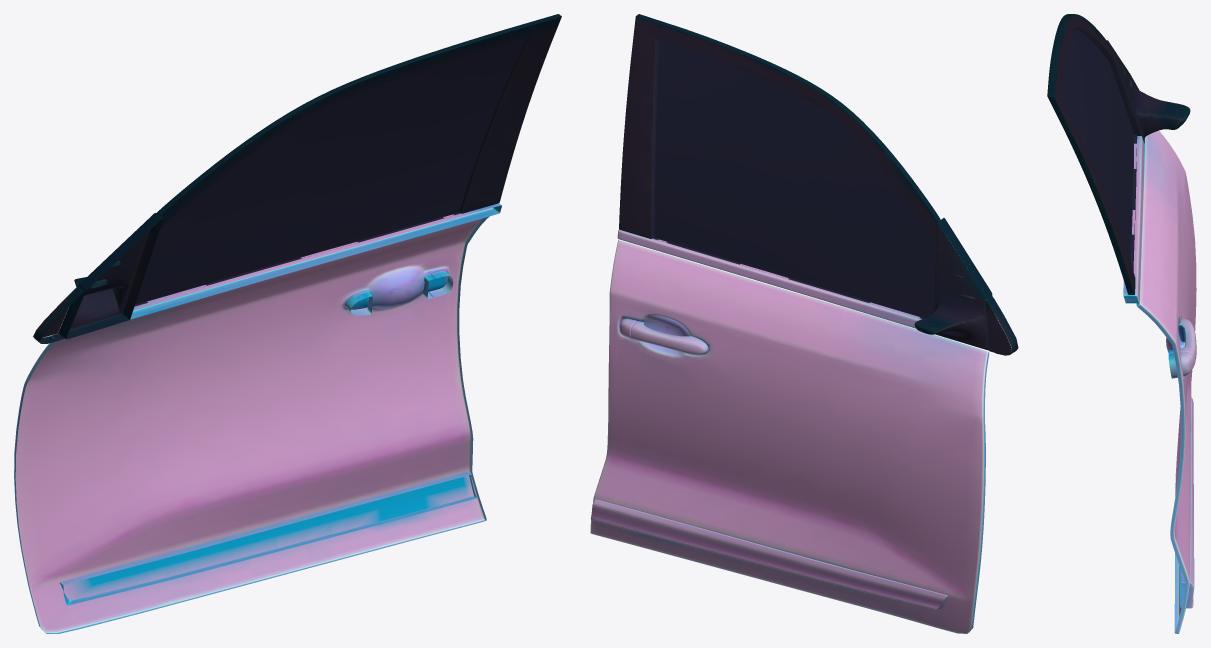
Rendered from door_FR.glb.
3 renders of one model, left to right at view 1: azimuth 30°, elevation 25°; view 2: azimuth 150°, elevation 25°; view 3: azimuth 270°, elevation 25°, orthographic. The views are drawn at different scales.
Visible parts, largest first — view 1: Front_Doors_9, windowglass_39, black_10, black_11, chrome_3, chrome_4, black_12; view 2: Front_Doors_9, windowglass_39, black_10, chrome_3, black_11, chrome_4, black_12; view 3: Front_Doors_9, windowglass_39, black_10, black_11, chrome_3, chrome_4.
Part boxes in pixels (bbox=[...]): Front_Doors_9: bbox=[14, 216, 489, 633]; windowglass_39: bbox=[134, 36, 529, 306]; black_10: bbox=[150, 14, 561, 233]; black_11: bbox=[59, 213, 162, 339]; chrome_3: bbox=[60, 271, 476, 605]; chrome_4: bbox=[130, 203, 501, 319]; black_12: bbox=[33, 261, 121, 343]; Front_Doors_9: bbox=[590, 240, 989, 633]; windowglass_39: bbox=[652, 38, 936, 318]; black_10: bbox=[619, 14, 940, 242]; chrome_3: bbox=[590, 318, 947, 609]; black_11: bbox=[914, 218, 992, 350]; chrome_4: bbox=[617, 229, 921, 328]; black_12: bbox=[953, 274, 1018, 355]; Front_Doors_9: bbox=[1136, 130, 1196, 633]; windowglass_39: bbox=[1061, 28, 1137, 271]; black_10: bbox=[1047, 14, 1135, 294]; black_11: bbox=[1106, 40, 1190, 143]; chrome_3: bbox=[1168, 318, 1196, 608]; chrome_4: bbox=[1123, 136, 1144, 303].
Bounding box in the file's own units: 1.19 × 1.32 × 0.3233.
